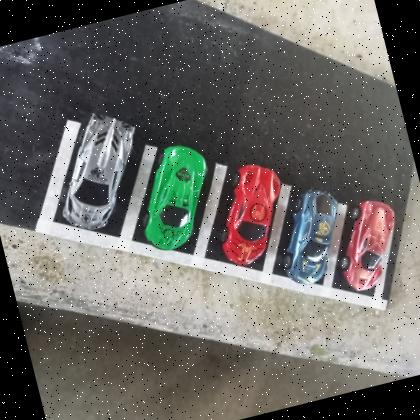Car: (40, 103, 156, 235), (126, 138, 225, 256), (204, 156, 298, 270), (267, 182, 357, 289), (327, 194, 410, 295)
